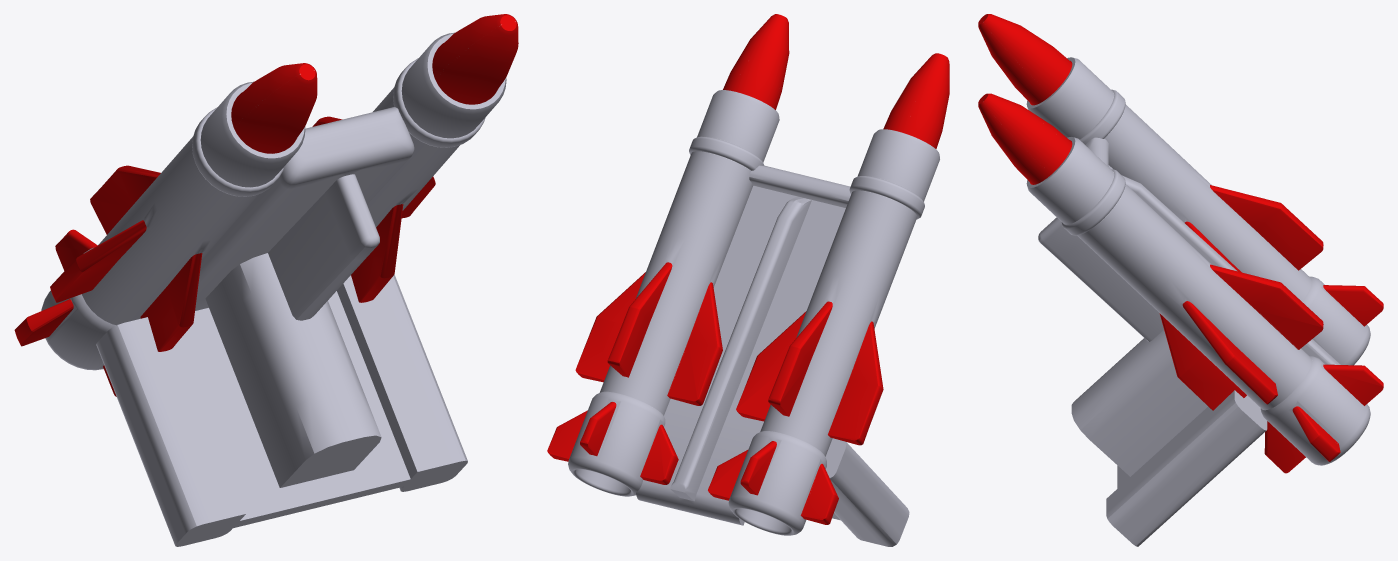
Rendered from MissileLauncher.fbx.
3 renders of one model, left to right at view 1: azimuth 30°, elevation 25°; view 2: azimuth 150°, elevation 25°; view 3: azimuth 270°, elevation 25°, orthographic. The views are drawn at different scales.
Parts seen in each view (by area): view 1: DualMissileBase, DualMissile; view 2: DualMissile, DualMissileBase; view 3: DualMissile, DualMissileBase.
Boxes of the visible parts, <box> form: DualMissileBase: <box>96,107,467,546</box>; DualMissile: <box>14,14,518,396</box>; DualMissile: <box>547,14,949,535</box>; DualMissileBase: <box>636,165,909,546</box>; DualMissile: <box>978,14,1383,473</box>; DualMissileBase: <box>1038,137,1340,546</box>.
Size of the model in its own units: 2.78 by 4.04 by 3.38.
1 material, 1 textured.
